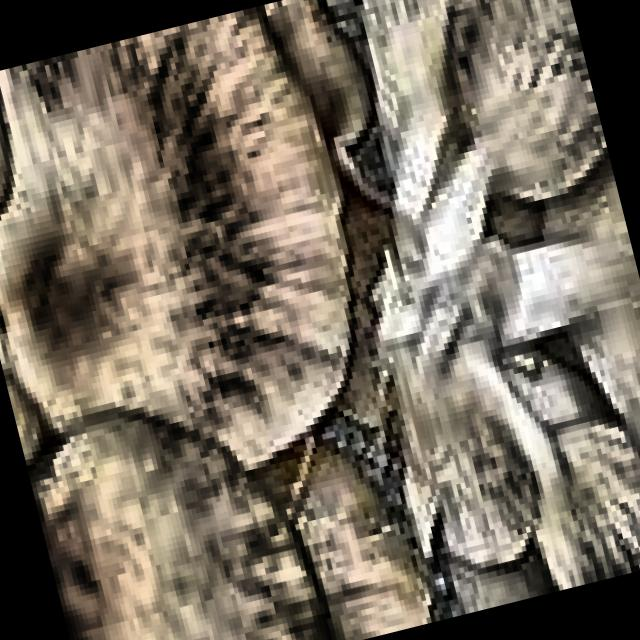Affected: (39, 4, 348, 399), (53, 533, 244, 640)
